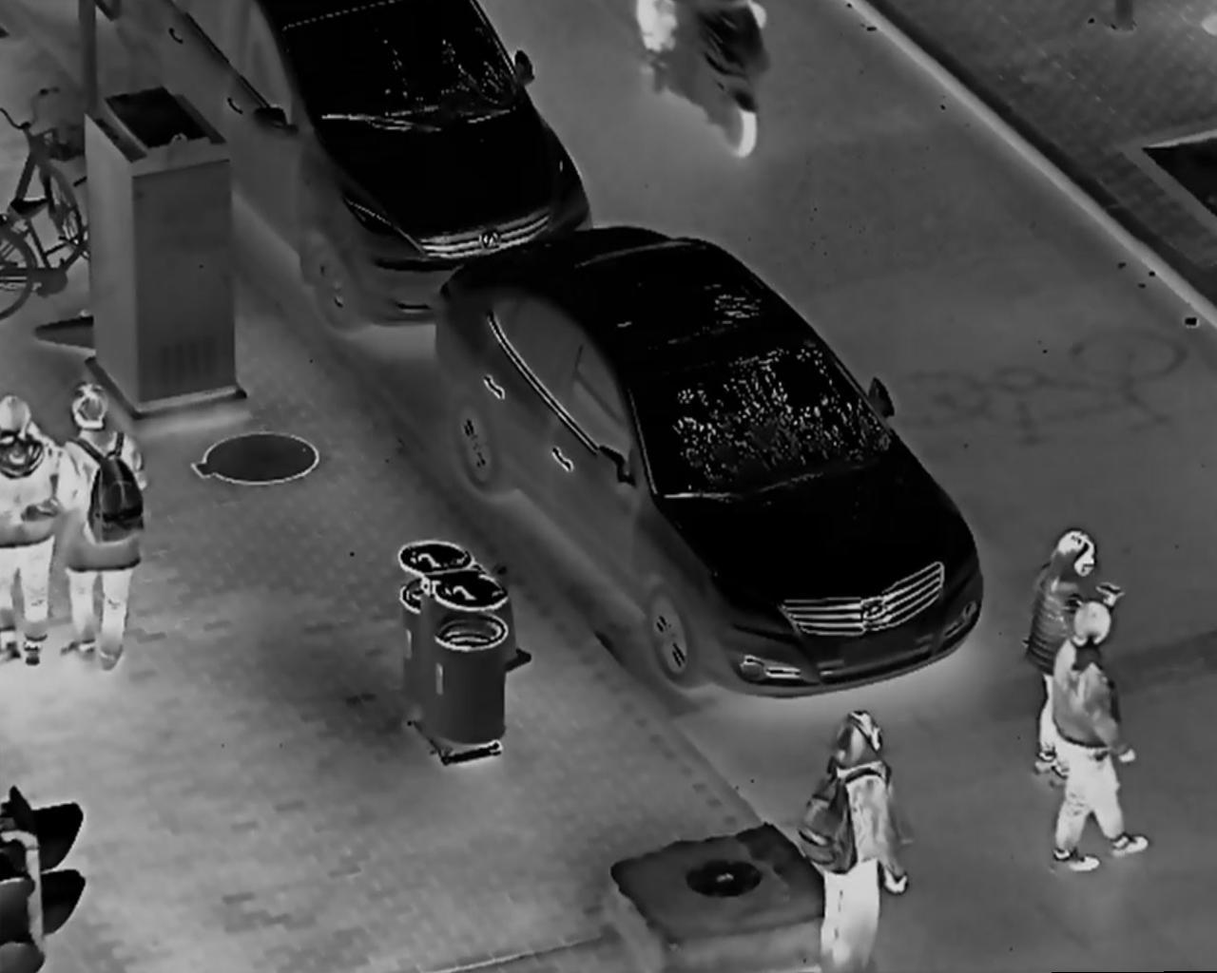person: (790, 702, 918, 973), (1023, 521, 1141, 782), (58, 376, 156, 680), (1049, 601, 1152, 877)
